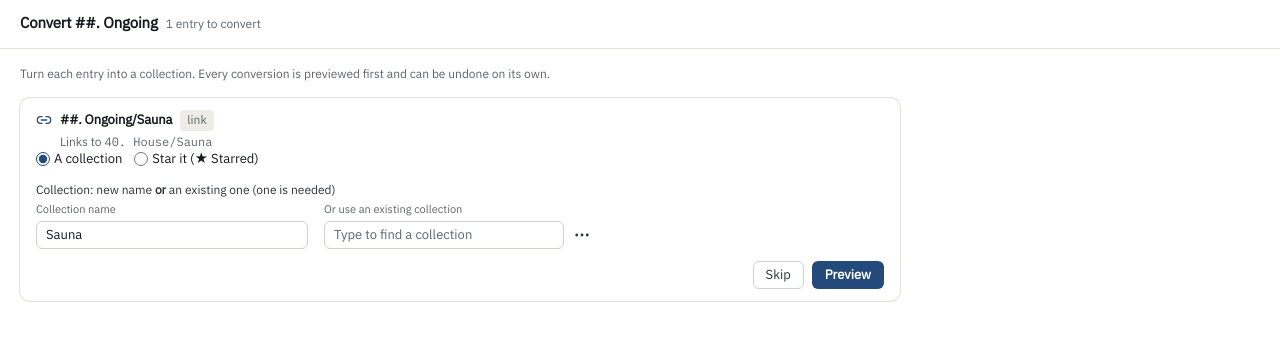
Test: ConvertOngoing › Enter in the picker with no exact match says so and changes nothing
Type "Nope" into the dropdown labelled "Or use an existing collection". click: (444,235)
box: [324,221,564,249]
Then press Enter
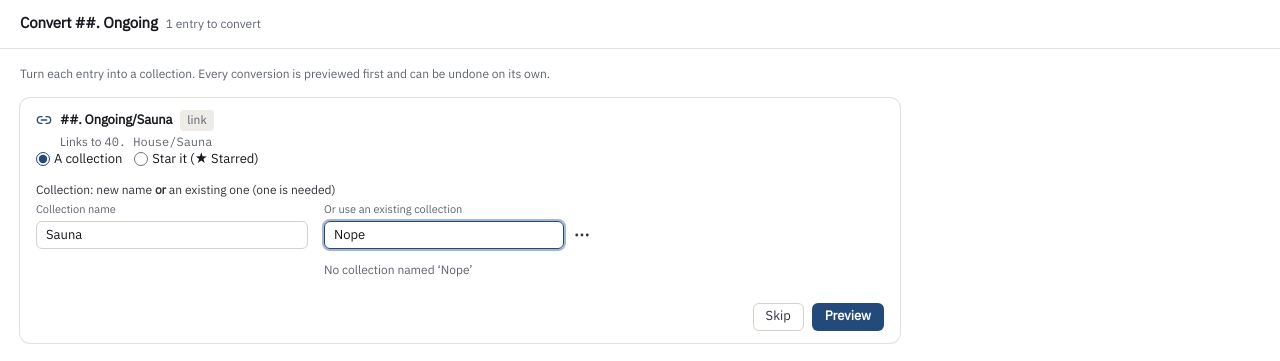
expect the field labelled "Collection name" holds "Sauna": met, box [36,221,308,249]
expect the text "No collection named ‘Nope’" is shown: met, box [324,262,472,277]
